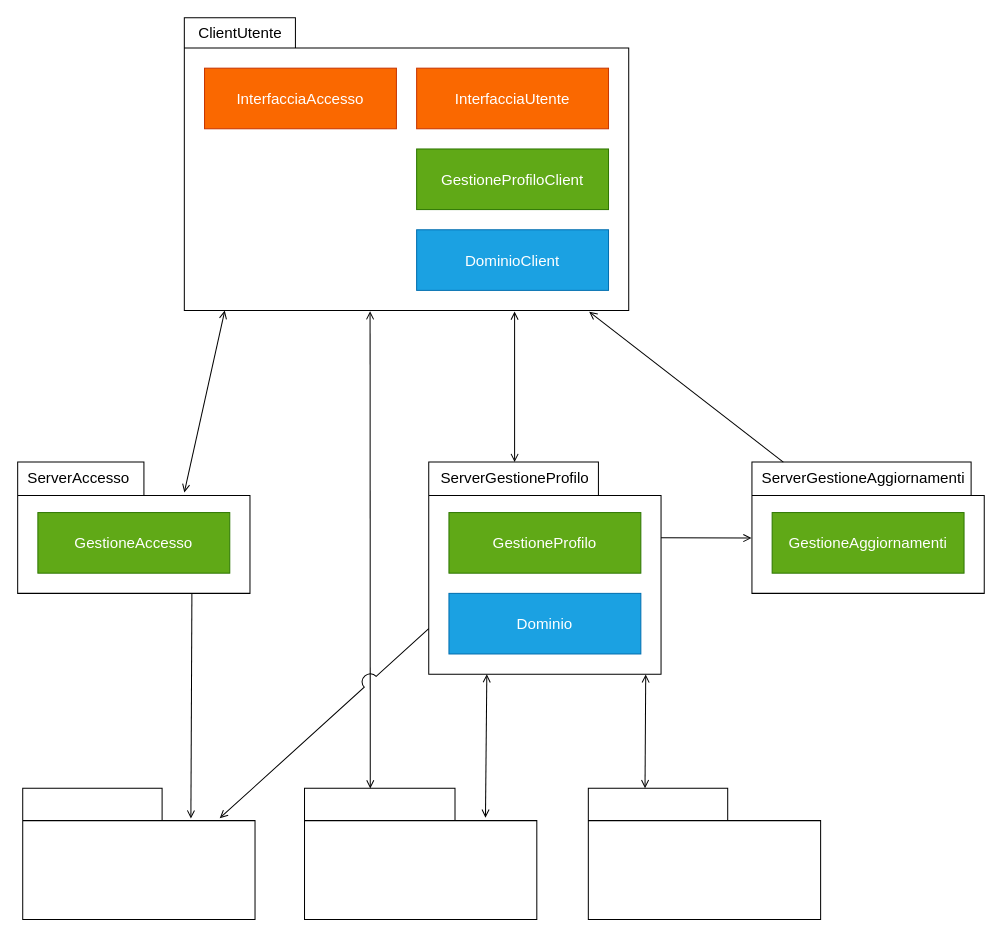
The diagram is 1002 pixels wide and 937 high, and some of its shapes have lost their labels. Here are the shapes that lost their labels. From the top down, the centre of each, then its label:
pixel 138 853: Log Persistence
pixel 420 853: Image Persistence
pixel 704 853: Data Persistence
